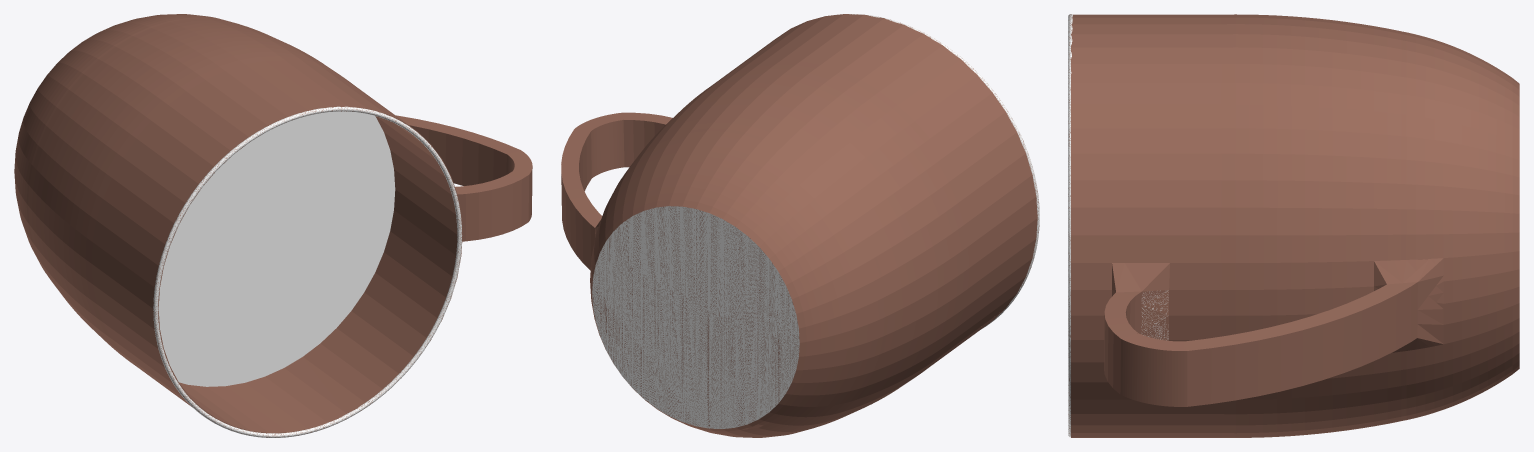
3 views of the same model, side by side, from view 1: azimuth 30°, elevation 25°; view 2: azimuth 150°, elevation 25°; view 3: azimuth 270°, elevation 25° (orthographic). The views are drawn at different scales.
Parts seen in each view (by area): view 1: mug; view 2: mug; view 3: mug.
Boxes of the visible parts, x1,y1,x2,y2 form: mug: (14, 14, 532, 437); mug: (561, 14, 1039, 437); mug: (1068, 14, 1519, 437).
Size of the model in its own units: 6.32 by 4.68 by 4.99.
